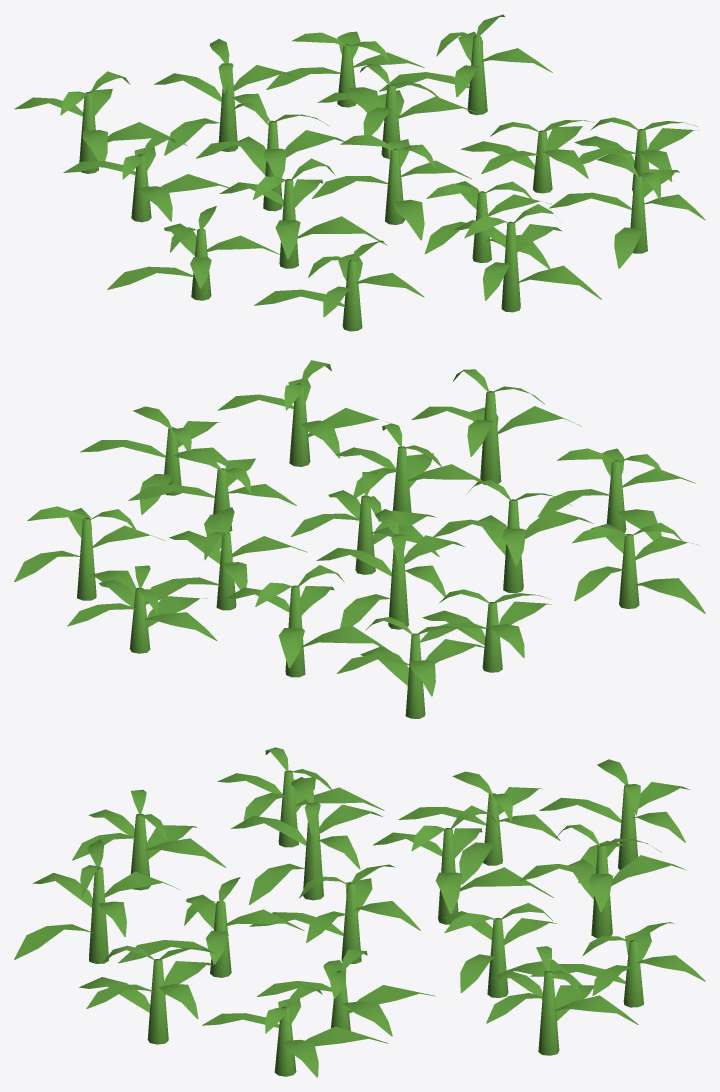
The model's file is Lavender.lv.001.fbx.
3 renders of one model, top to bottom at view 1: azimuth 30°, elevation 25°; view 2: azimuth 150°, elevation 25°; view 3: azimuth 270°, elevation 25°, orthographic. The views are drawn at different scales.
Visible parts, largest first — view 1: Cube.049; view 2: Cube.049; view 3: Cube.049.
Boxes of the visible parts, x1,y1,x2,y2 form: Cube.049: (14,14,705,331); Cube.049: (14,360,705,718); Cube.049: (14,747,705,1077).
Bounding box in the file's own units: 210 × 33.19 × 197.
